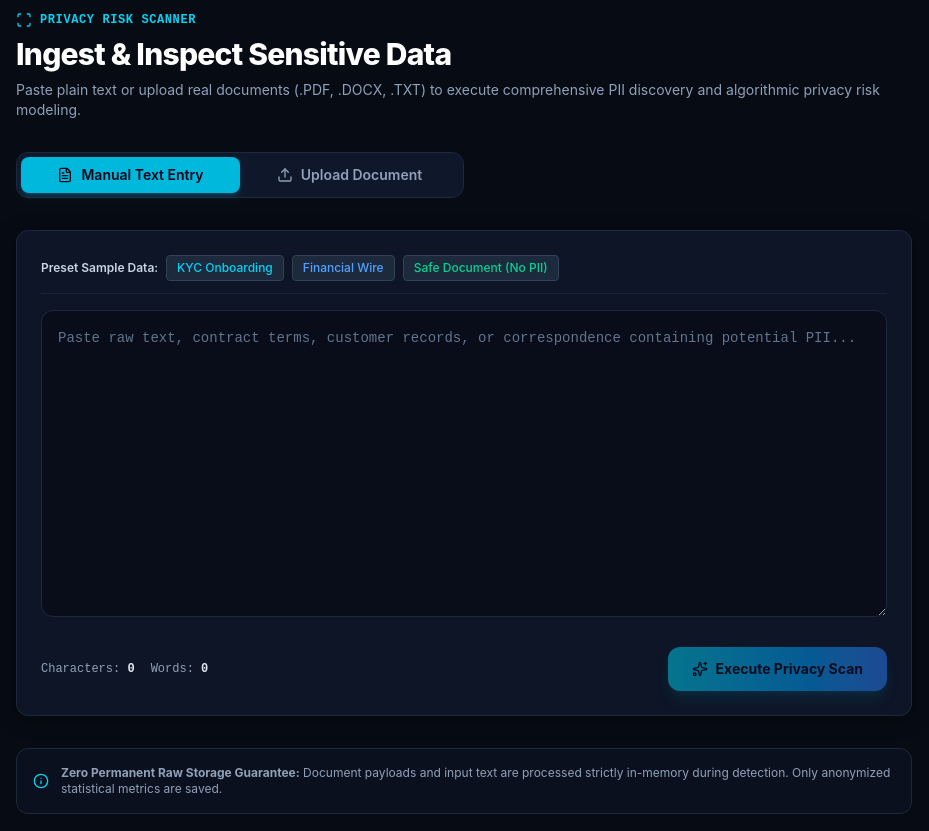
Test: ScannerPage Component › switches between Manual Text and Document tabs
The width and height of the screenshot is (929, 831).
Click the button "Upload Document".
click(350, 175)  # box [240,157,459,193]
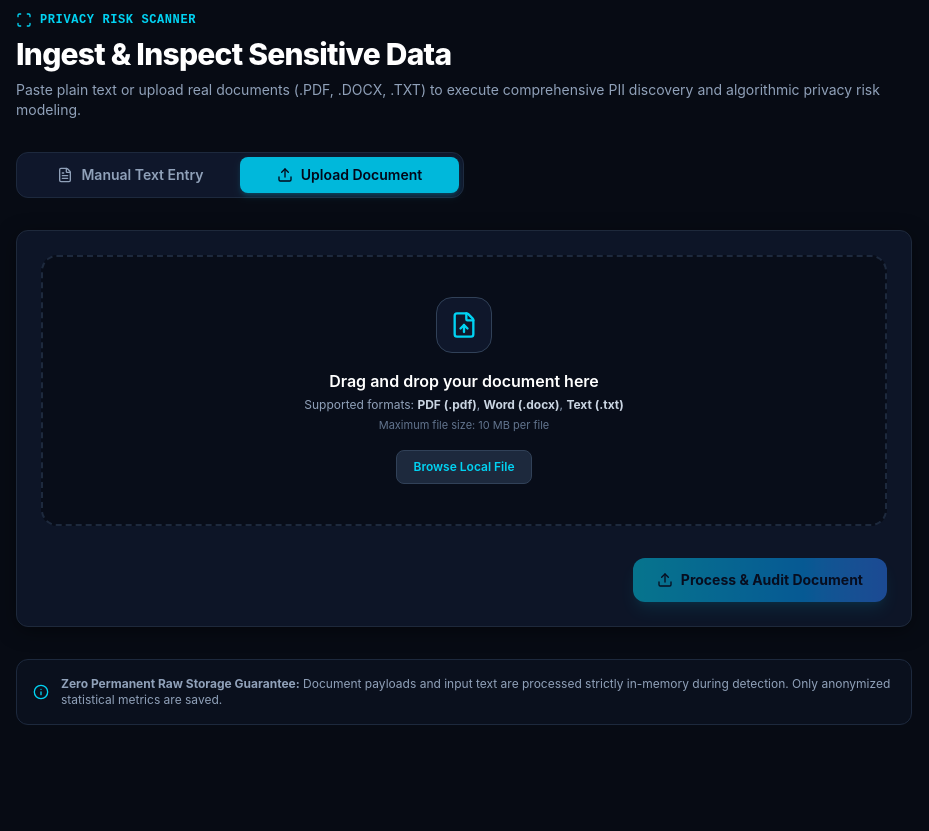
Expected: the text "Drag and drop your document here" is shown, [329,371,599,391]
Expected: the text "Supported formats: PDF (.pdf), Word (.docx), Text (.txt)" is shown, [304,397,624,412]
